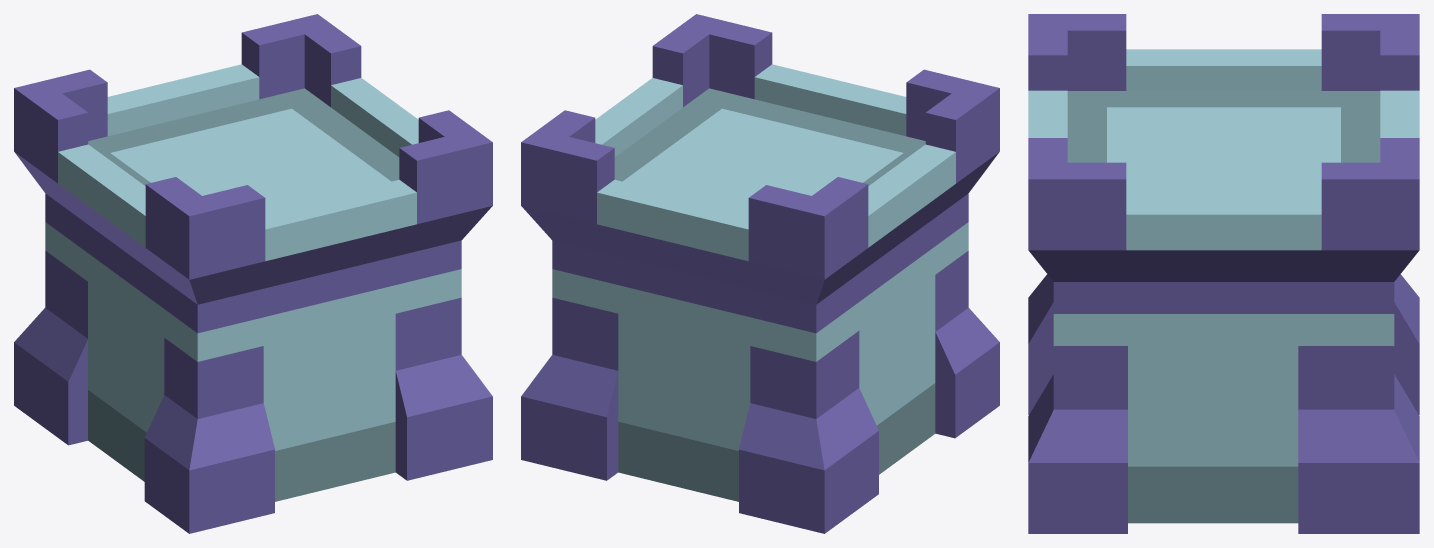
The model's file is towersquare_samplee.fbx.
3 views of the same model, side by side, from view 1: azimuth 30°, elevation 25°; view 2: azimuth 150°, elevation 25°; view 3: azimuth 270°, elevation 25° (orthographic). The views are drawn at different scales.
Parts seen in each view (by area): view 1: towerSquare_sampleE; view 2: towerSquare_sampleE; view 3: towerSquare_sampleE.
Boxes of the visible parts, box(x1,y1,x2,y2) form: towerSquare_sampleE: box(14, 14, 492, 533); towerSquare_sampleE: box(521, 14, 999, 533); towerSquare_sampleE: box(1028, 14, 1419, 533).
Size of the model in its own units: 10 by 10 by 10.
